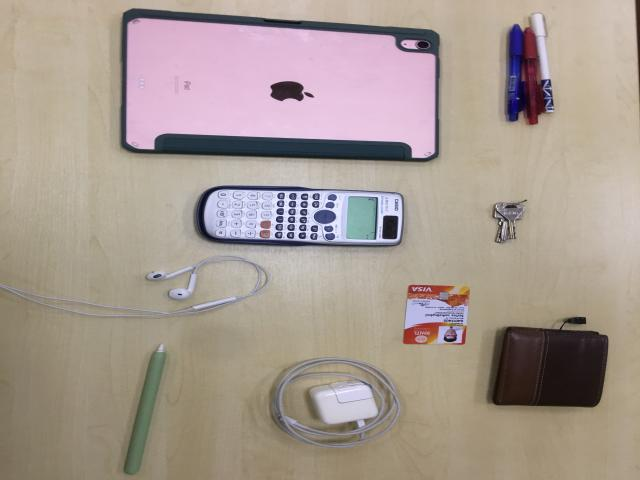Keys: (489, 199, 530, 246)
Pen: (505, 14, 555, 127)
Wallet: (488, 327, 610, 409)
wire: (2, 256, 271, 320), (269, 358, 403, 451)
